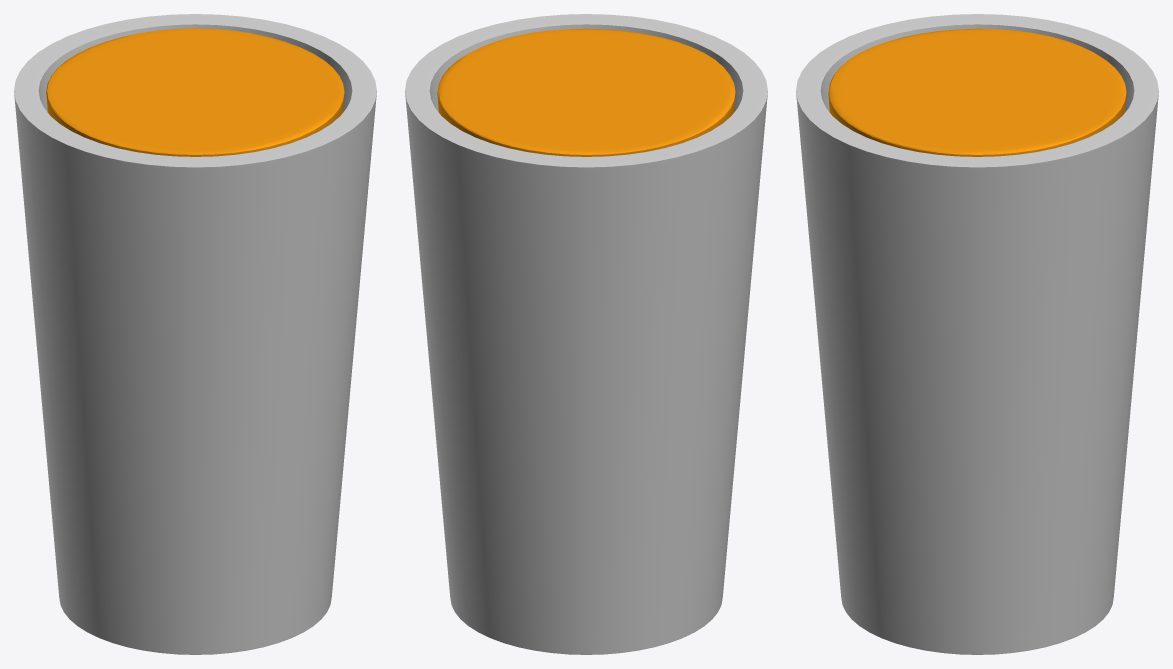
The model's file is coffee_01.fbx.
3 renders of one model, left to right at view 1: azimuth 30°, elevation 25°; view 2: azimuth 150°, elevation 25°; view 3: azimuth 270°, elevation 25°, orthographic.
Parts seen in each view (by area): view 1: cup, coffee; view 2: cup, coffee; view 3: cup, coffee.
Part boxes in pixels (x1=…): cup: x1=14, y1=14, x2=376, y2=654; coffee: x1=46, y1=28, x2=344, y2=156; cup: x1=405, y1=14, x2=767, y2=654; coffee: x1=437, y1=28, x2=735, y2=156; cup: x1=796, y1=14, x2=1158, y2=654; coffee: x1=828, y1=28, x2=1126, y2=156.
Bounding box in the file's own units: 2.63 × 4.05 × 2.63.
